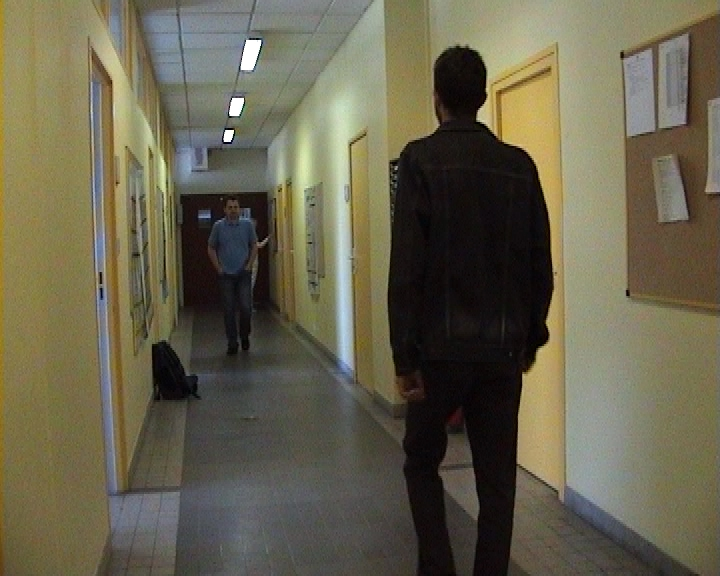leave bag unattended: (141, 329, 206, 417)
